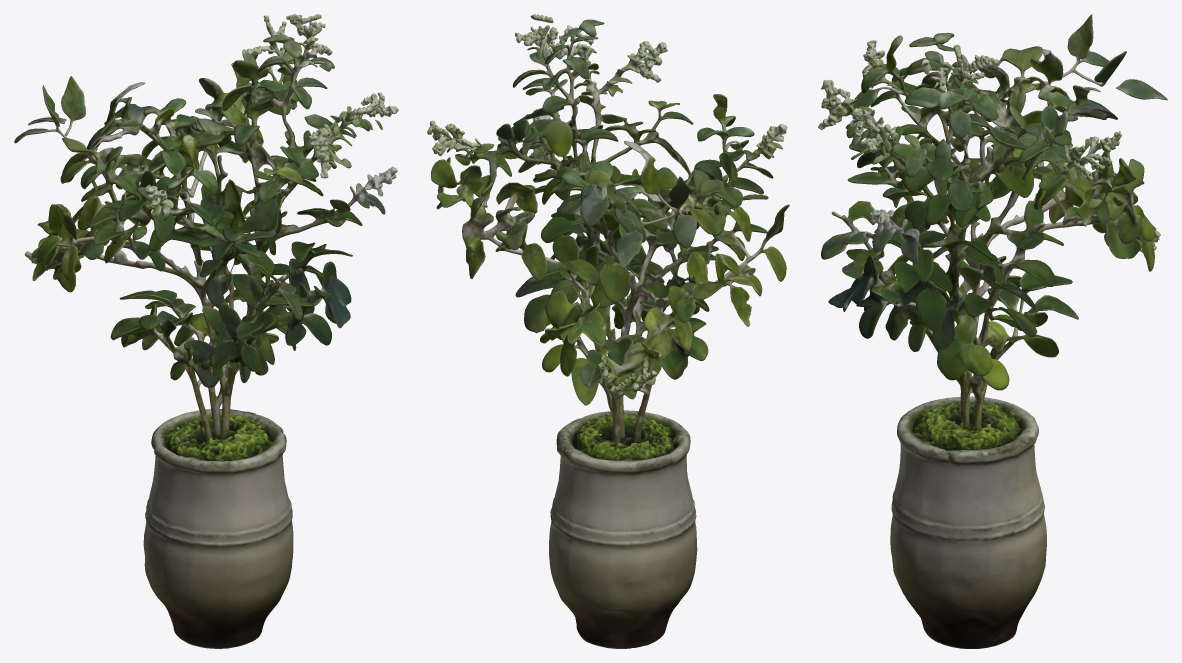
Rendered from EucalyptusPlant.glb.
3 renders of one model, left to right at view 1: azimuth 30°, elevation 25°; view 2: azimuth 150°, elevation 25°; view 3: azimuth 270°, elevation 25°, orthographic. The views are drawn at different scales.
Parts seen in each view (by area): view 1: geometry_0; view 2: geometry_0; view 3: geometry_0.
Part boxes in pixels (x1,y1,x2,y2): geometry_0: [14, 14, 398, 648]; geometry_0: [427, 14, 789, 648]; geometry_0: [818, 14, 1167, 648].
Bounding box in the file's own units: 0.5356 × 1 × 0.5075.
Materials: 1 (1 with a texture image).
